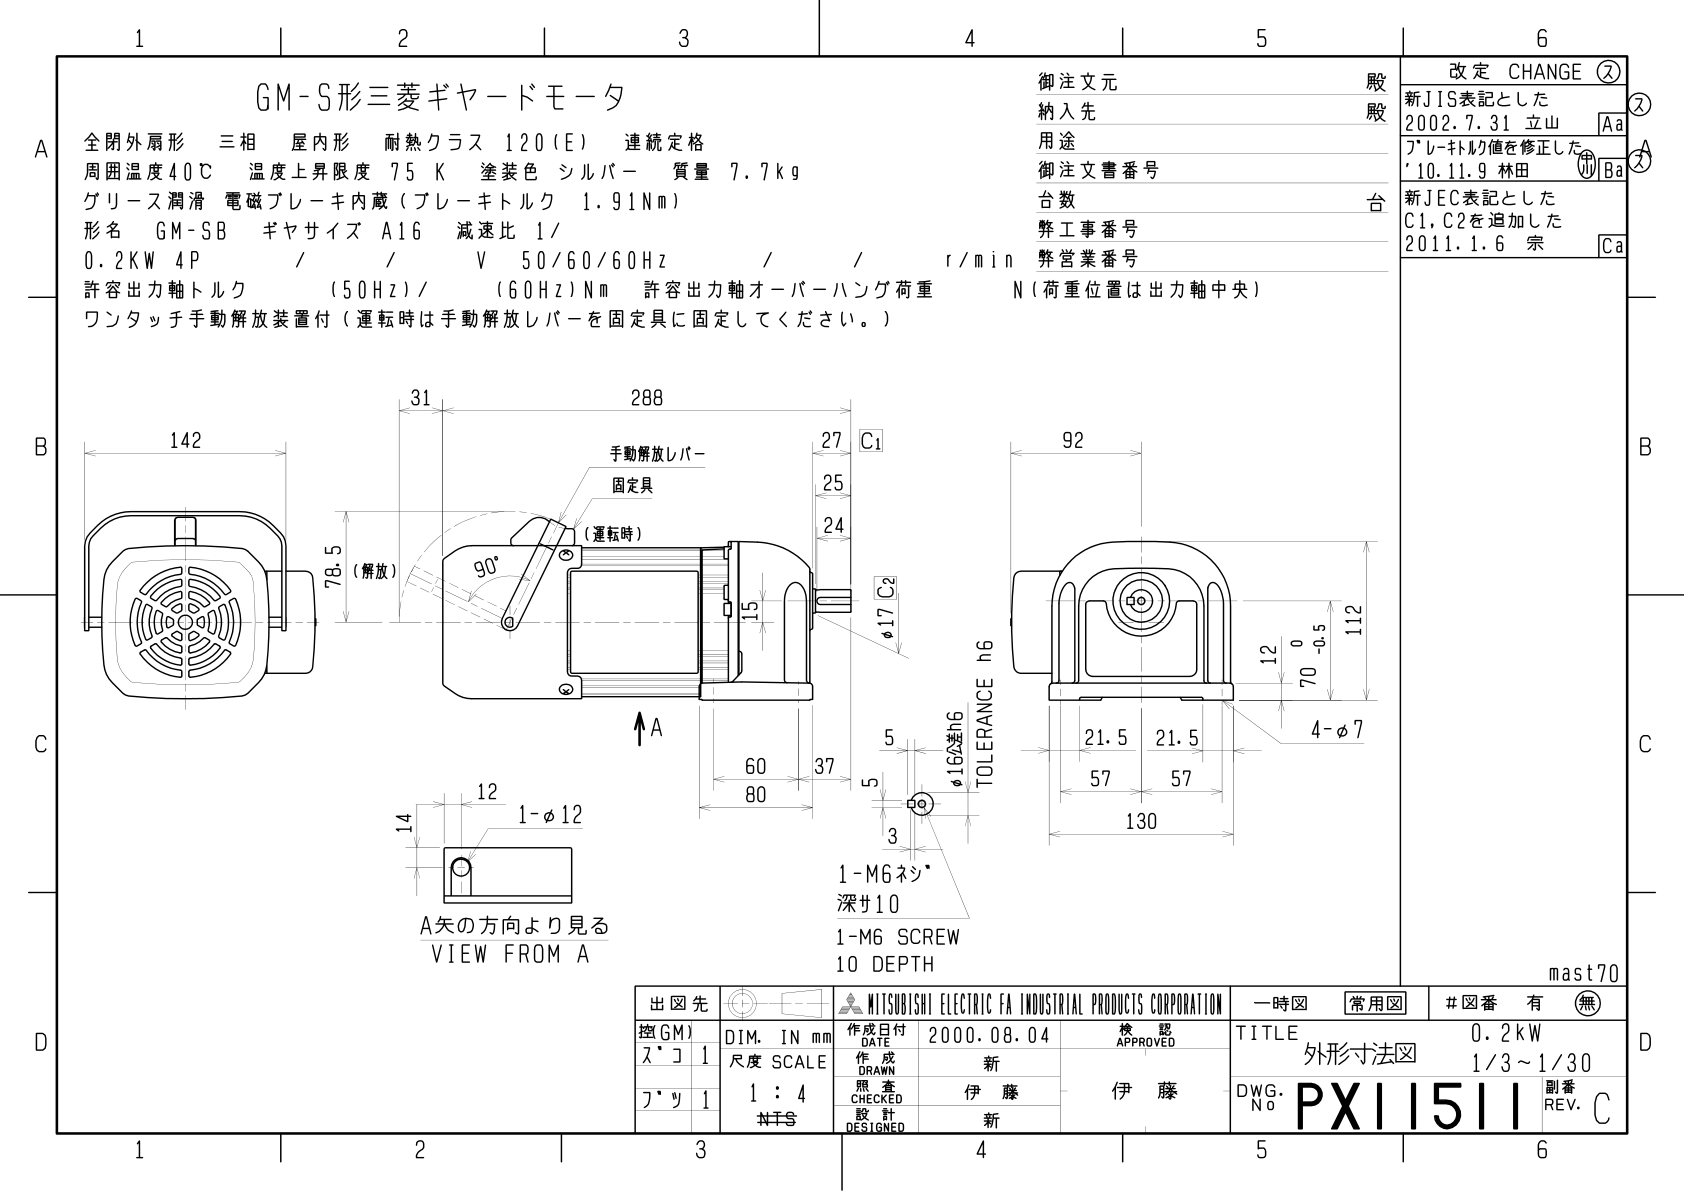GM_S_手動ブレーキ＿三相_脚: (67, 363, 1386, 983)
